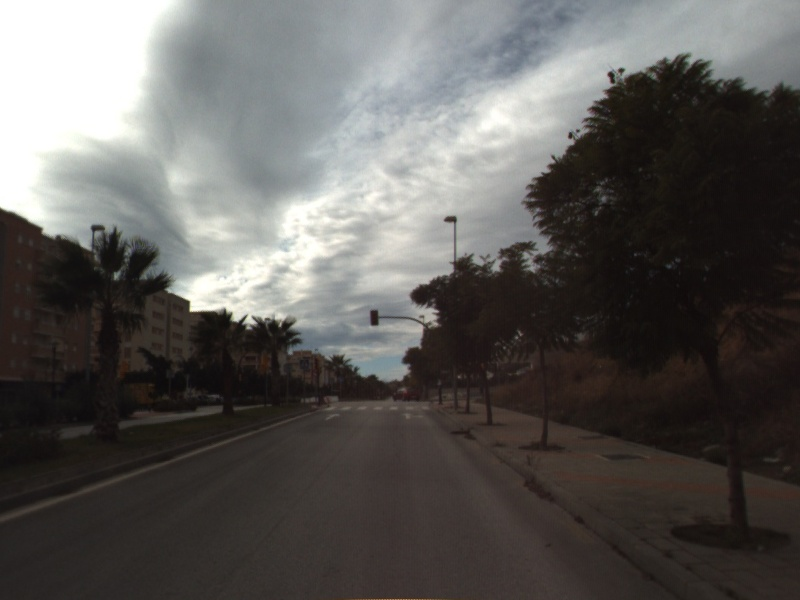STRAIGHT: (323, 411, 342, 422)
STRAIGHT_RIGHT: (399, 410, 426, 421)
